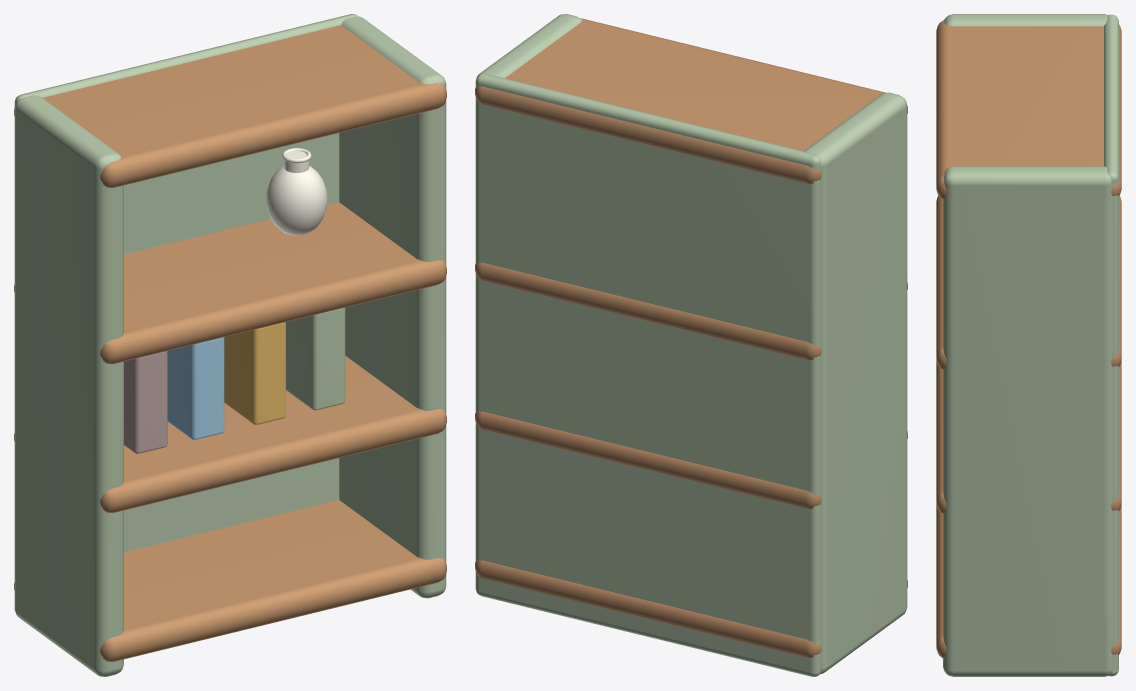
The model's file is officeRack.glb.
3 renders of one model, left to right at view 1: azimuth 30°, elevation 25°; view 2: azimuth 150°, elevation 25°; view 3: azimuth 270°, elevation 25°, orthographic. The views are drawn at different scales.
Parts seen in each view (by area): view 1: Shelf side, Shelf side.001, Shelf.003, Shelf, Shelf.002, Shelf back, Shelf.001, Book.002, Book.003, Book.001, Book, Vase belly; view 2: Shelf back, Shelf side, Shelf.003, Shelf, Shelf.001, Shelf.002, Shelf side.001; view 3: Shelf side.001, Shelf.003, Shelf back, Shelf side, Shelf.002, Shelf.001, Shelf.
Boxes of the visible parts, x1,y1,x2,y2 form: Shelf side: (14, 95, 123, 676); Shelf side.001: (339, 16, 446, 598); Shelf.003: (14, 25, 446, 187); Shelf: (14, 500, 446, 661); Shelf.002: (14, 202, 446, 364); Shelf back: (14, 14, 358, 552); Shelf.001: (14, 356, 446, 513); Book.002: (224, 322, 285, 424); Book.003: (286, 307, 345, 410); Book.001: (167, 337, 224, 439); Book: (124, 351, 167, 453); Vase belly: (266, 165, 327, 235); Shelf back: (475, 73, 820, 676); Shelf side: (804, 92, 907, 674); Shelf.003: (475, 18, 907, 183); Shelf: (475, 560, 907, 657); Shelf.001: (475, 411, 907, 508); Shelf.002: (475, 262, 907, 359); Shelf side.001: (476, 14, 581, 78); Shelf side.001: (943, 166, 1112, 676); Shelf.003: (936, 20, 1121, 199); Shelf back: (1104, 14, 1118, 676); Shelf side: (944, 14, 1107, 26); Shelf.002: (936, 195, 1121, 369); Shelf.001: (936, 361, 1121, 514); Shelf: (936, 505, 1121, 658).
Bounding box in the file's own units: 1.48 × 2.1 × 0.7.
